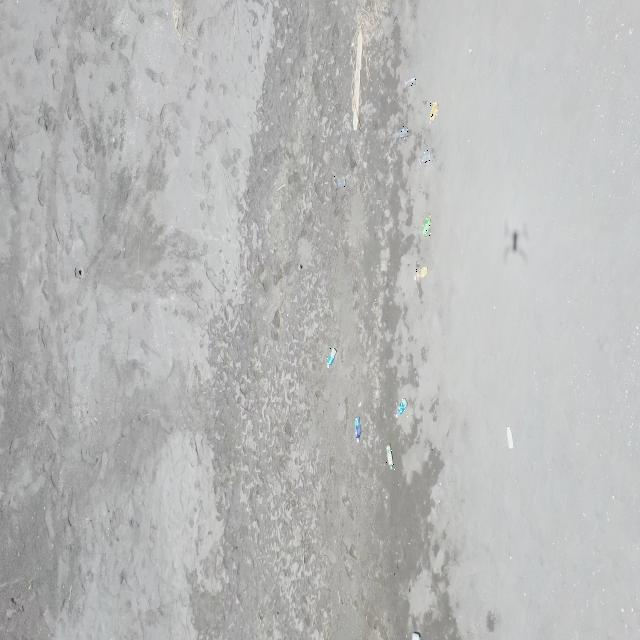plastic-bottle: (396, 397, 409, 418), (326, 346, 337, 368), (386, 444, 395, 470), (422, 216, 432, 236), (354, 415, 361, 443), (413, 268, 429, 280), (506, 426, 513, 452), (430, 102, 438, 124)
takeaway-cup: (419, 149, 432, 164), (334, 176, 346, 192), (396, 126, 408, 140), (406, 75, 418, 88)
